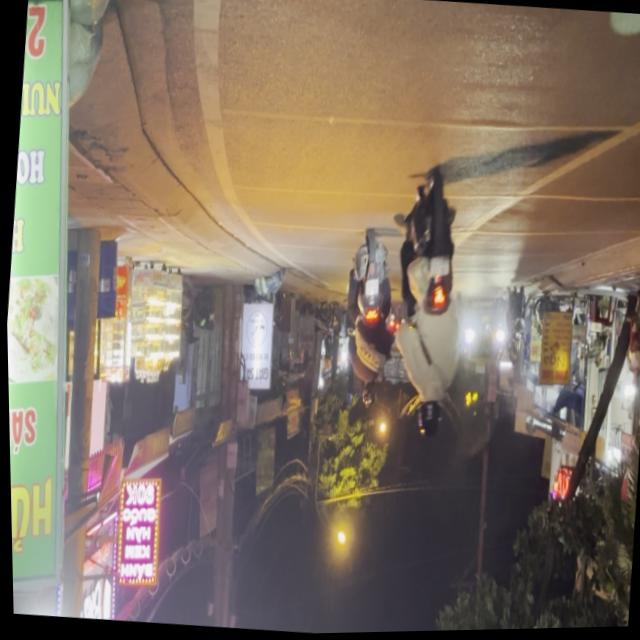helmet: (410, 394, 441, 442)
licenseplate: (378, 169, 477, 445)
nohelmet: (425, 254, 449, 279)
